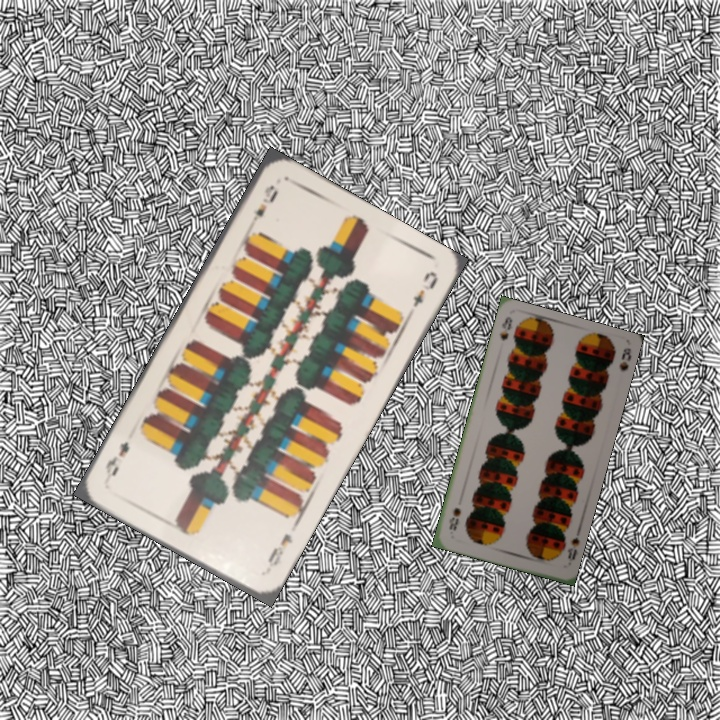E9: (244, 181, 281, 232), (263, 529, 296, 570)
S8: (495, 313, 515, 343), (563, 533, 582, 562)
